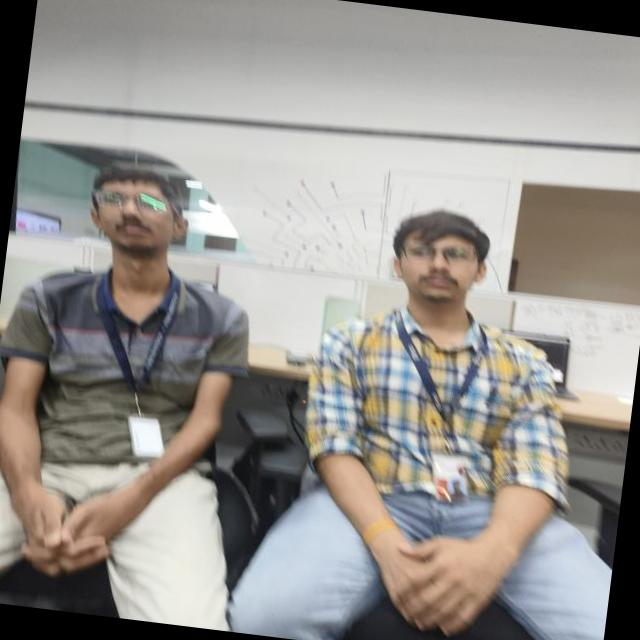id_card: (380, 310, 497, 504), (82, 262, 185, 454)
